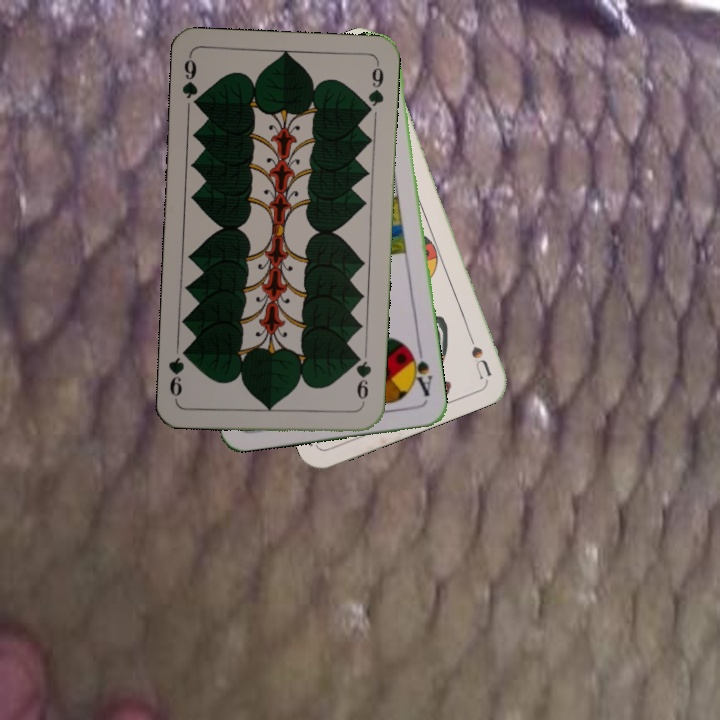G9: (178, 52, 204, 112), (351, 350, 374, 409)
SA: (404, 343, 435, 399)
SU: (461, 322, 494, 380)
